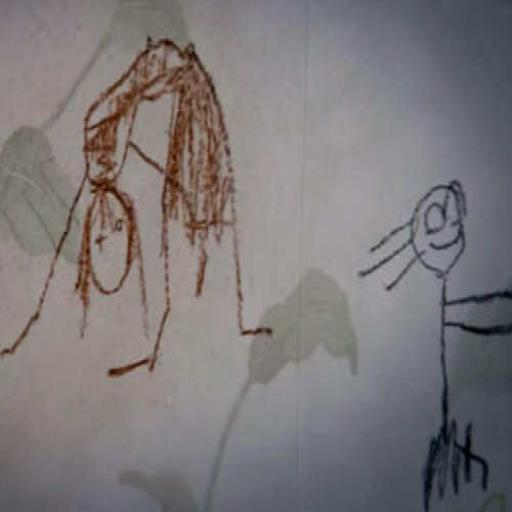person: (14, 35, 282, 391), (350, 164, 511, 512)
